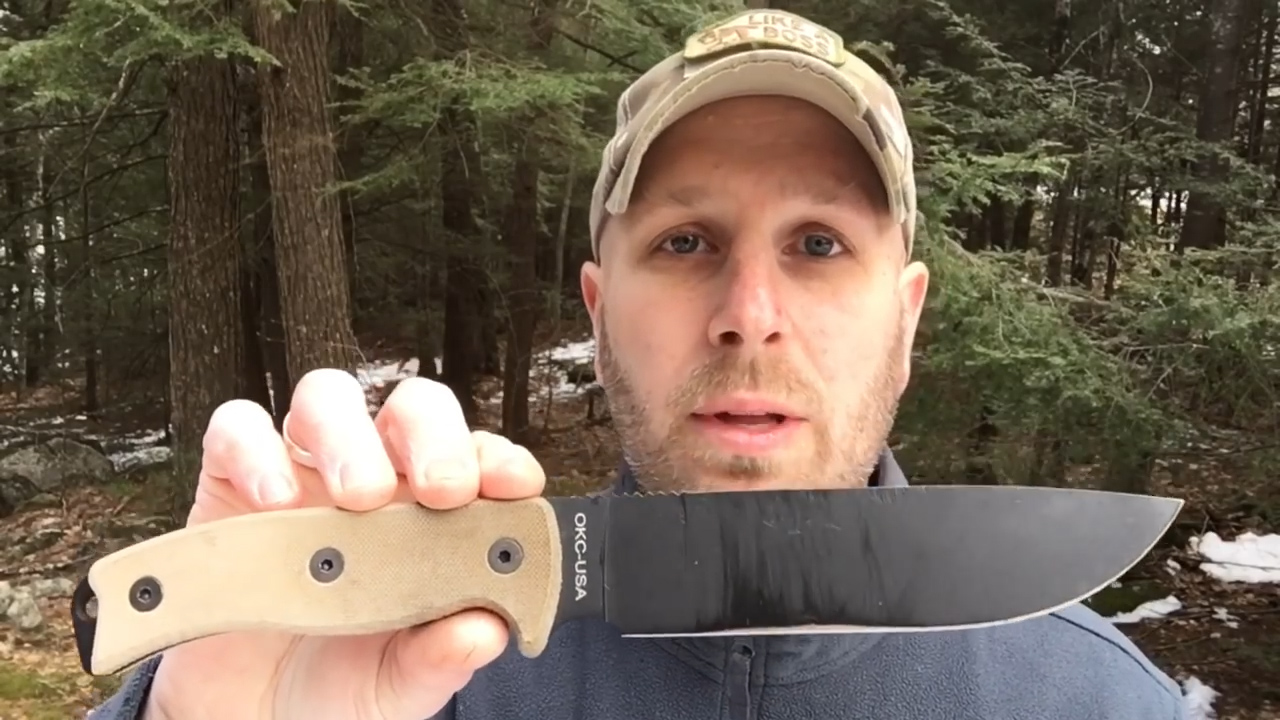knife: (197, 365, 1195, 667)
